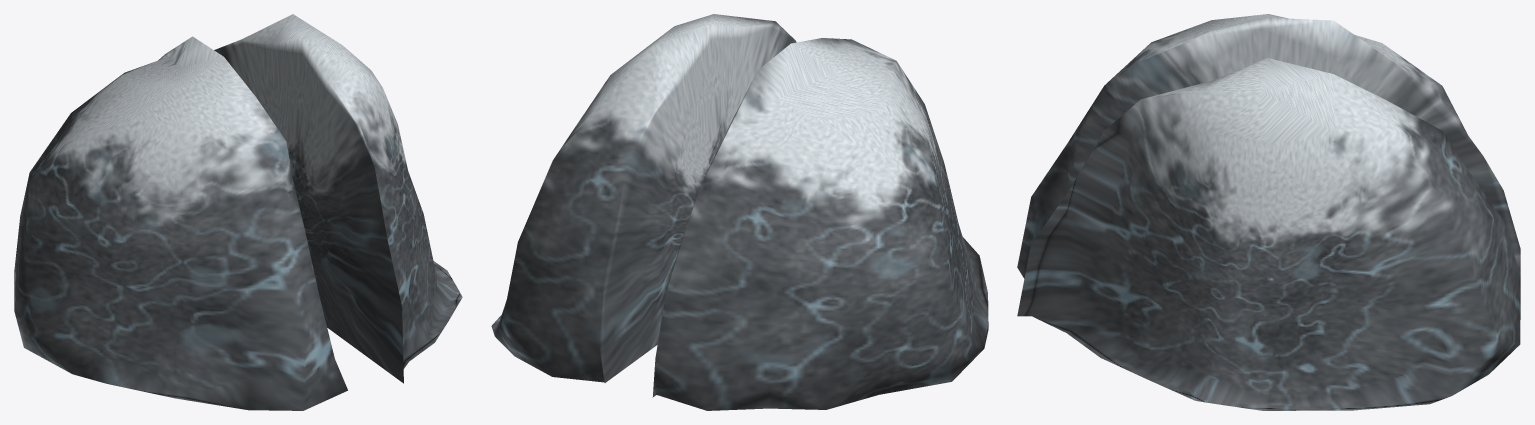
The model's file is rock_snowcap_icesplit_a.glb.
3 views of the same model, side by side, from view 1: azimuth 30°, elevation 25°; view 2: azimuth 150°, elevation 25°; view 3: azimuth 270°, elevation 25° (orthographic). The views are drawn at different scales.
Parts seen in each view (by area): view 1: rock_snowcap_icesplit_a; view 2: rock_snowcap_icesplit_a; view 3: rock_snowcap_icesplit_a.
Boxes of the visible parts, x1,y1,x2,y2 form: rock_snowcap_icesplit_a: [14, 14, 462, 410]; rock_snowcap_icesplit_a: [491, 14, 988, 410]; rock_snowcap_icesplit_a: [1017, 14, 1520, 410].
Bounding box in the file's own units: 1.77 × 1.12 × 1.83.
1 material, 1 textured.
